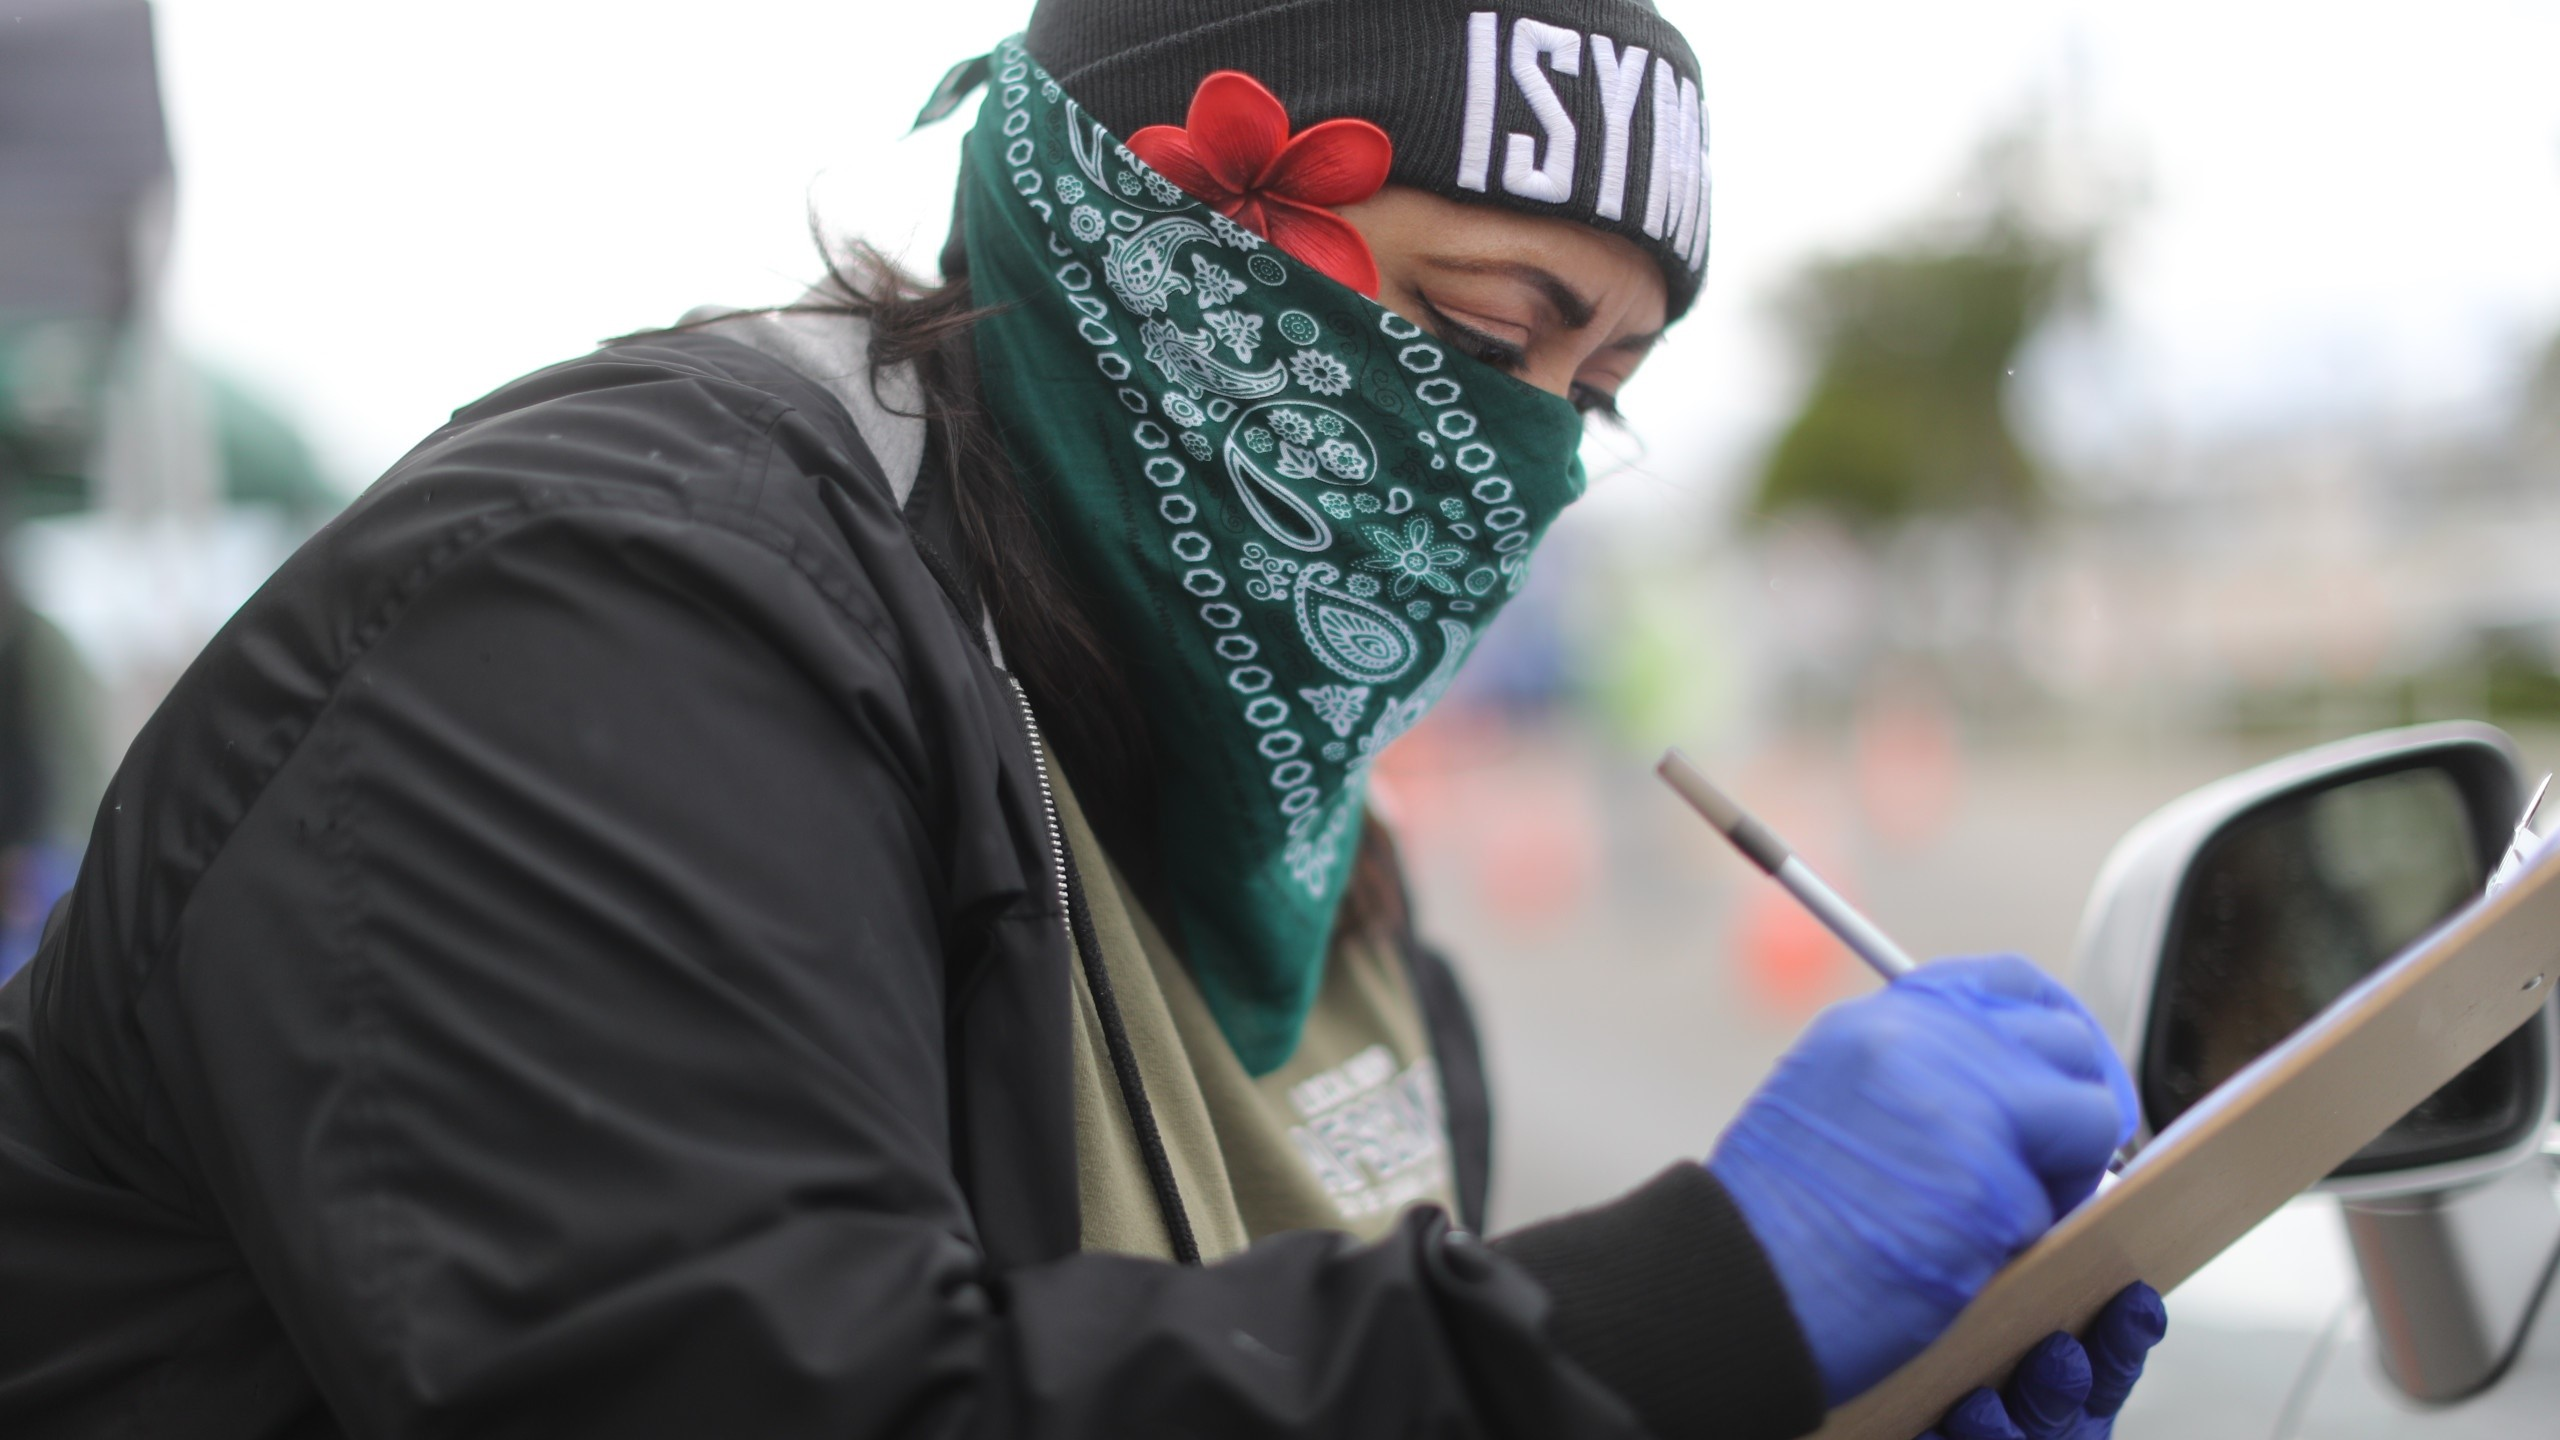face_with_mask: (996, 1, 1699, 752)
